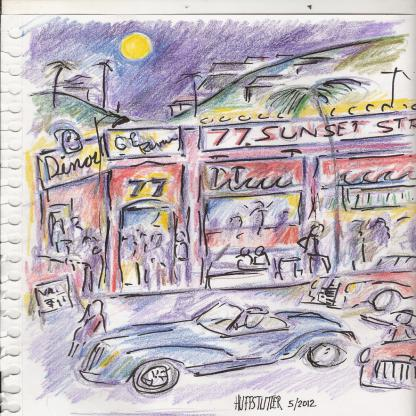Car: (63, 282, 382, 389)
